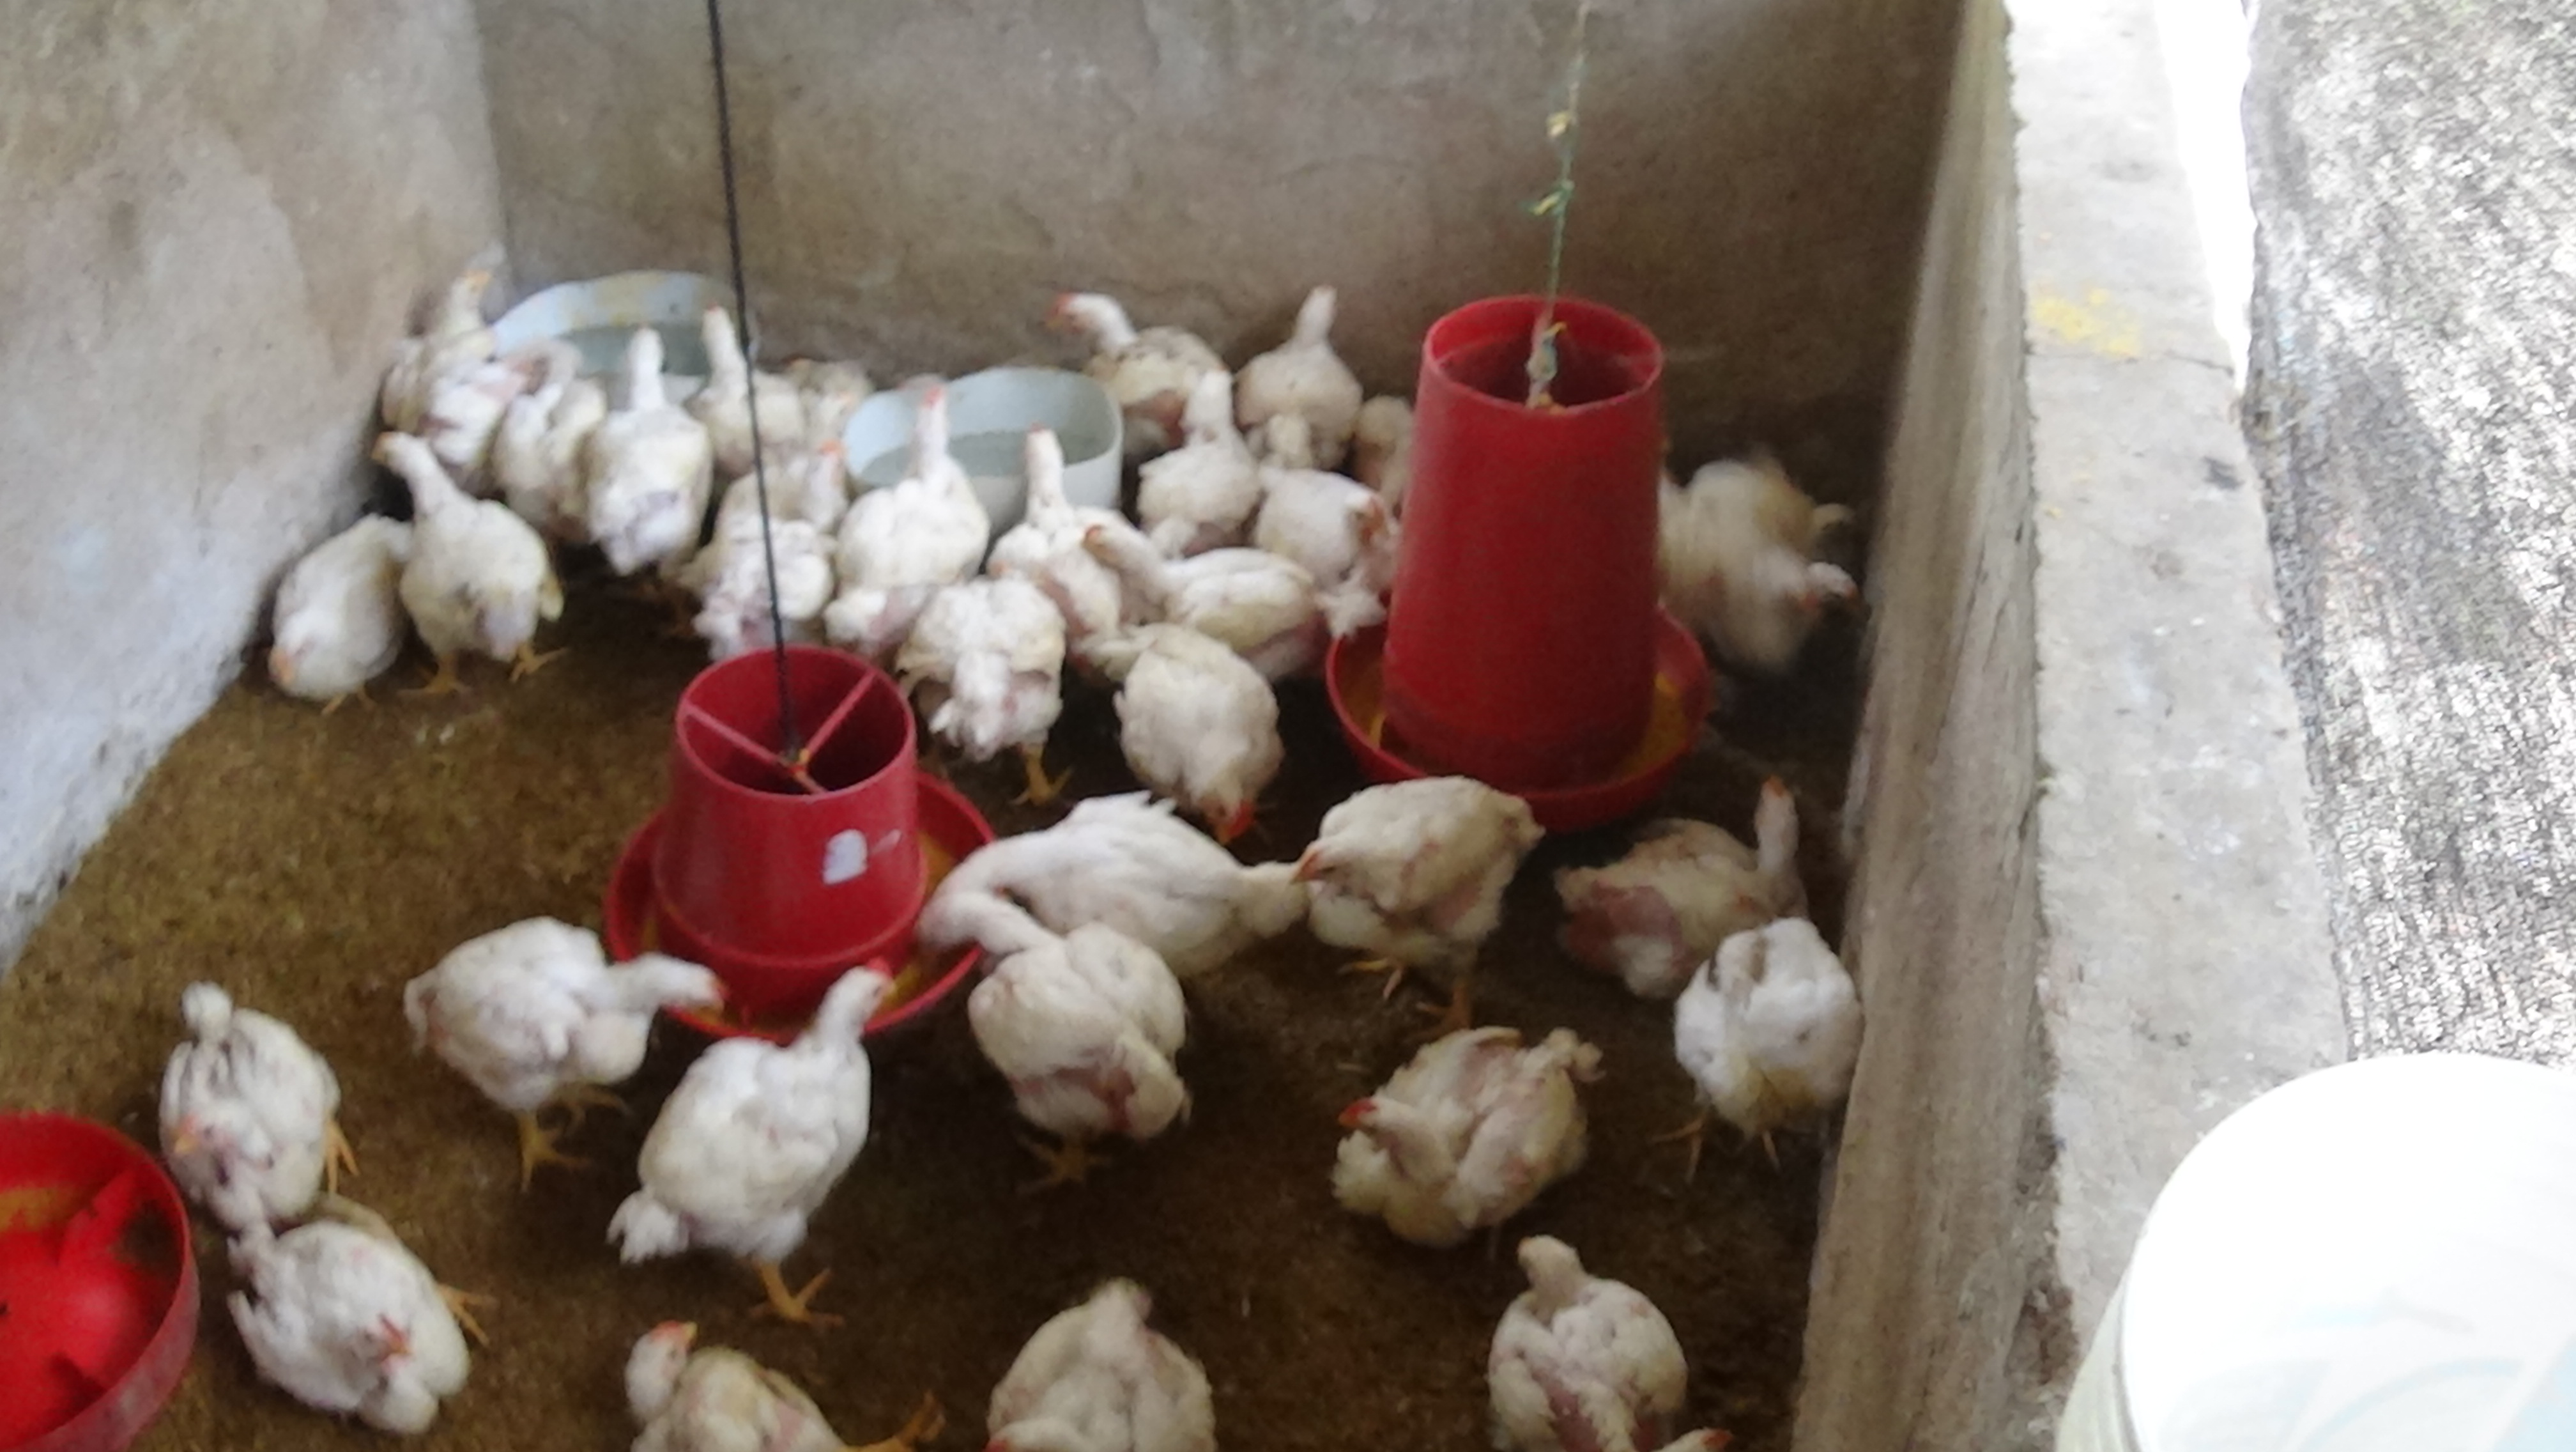Pollos: (616, 938, 920, 1289), (915, 889, 1205, 1183), (1315, 999, 1608, 1263), (395, 898, 706, 1140), (209, 1204, 497, 1429), (1576, 751, 1826, 990), (1460, 1216, 1713, 1452), (359, 434, 587, 682), (1675, 905, 1888, 1163), (133, 974, 345, 1201), (1290, 784, 1525, 986), (980, 1247, 1208, 1452), (985, 806, 1329, 938), (911, 535, 1081, 781), (589, 1319, 893, 1452), (699, 446, 876, 668), (1113, 634, 1292, 820), (582, 321, 713, 572), (853, 368, 1001, 577), (248, 535, 418, 717), (1070, 503, 1306, 625), (1674, 535, 1872, 666), (370, 257, 504, 439), (1693, 434, 1875, 567), (1044, 283, 1201, 411), (492, 333, 596, 522), (1244, 276, 1368, 425), (681, 283, 803, 434), (1272, 466, 1415, 593), (1309, 361, 1456, 475), (1154, 374, 1261, 517), (1005, 427, 1097, 590)
